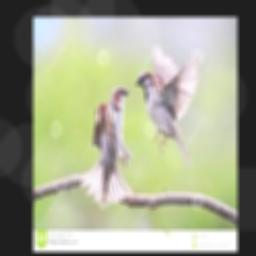Sparrow: (134, 49, 199, 163), (79, 87, 131, 206)
